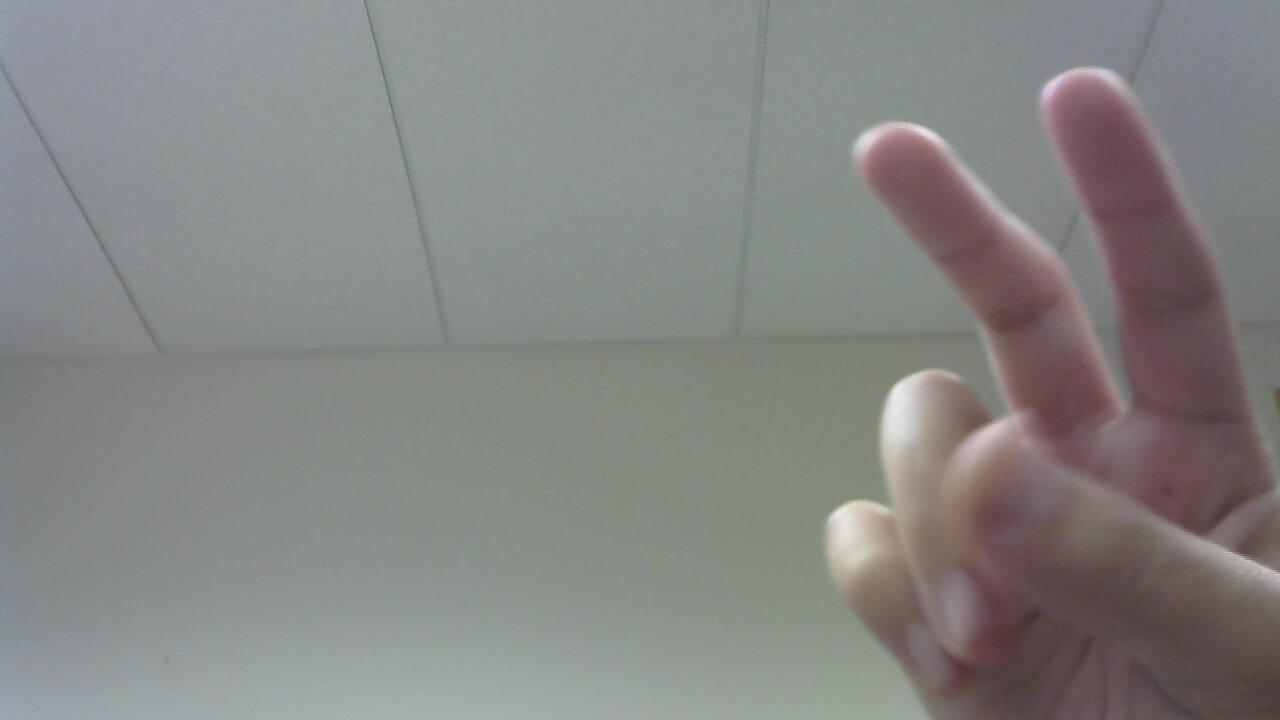peace: (803, 57, 1280, 720)
